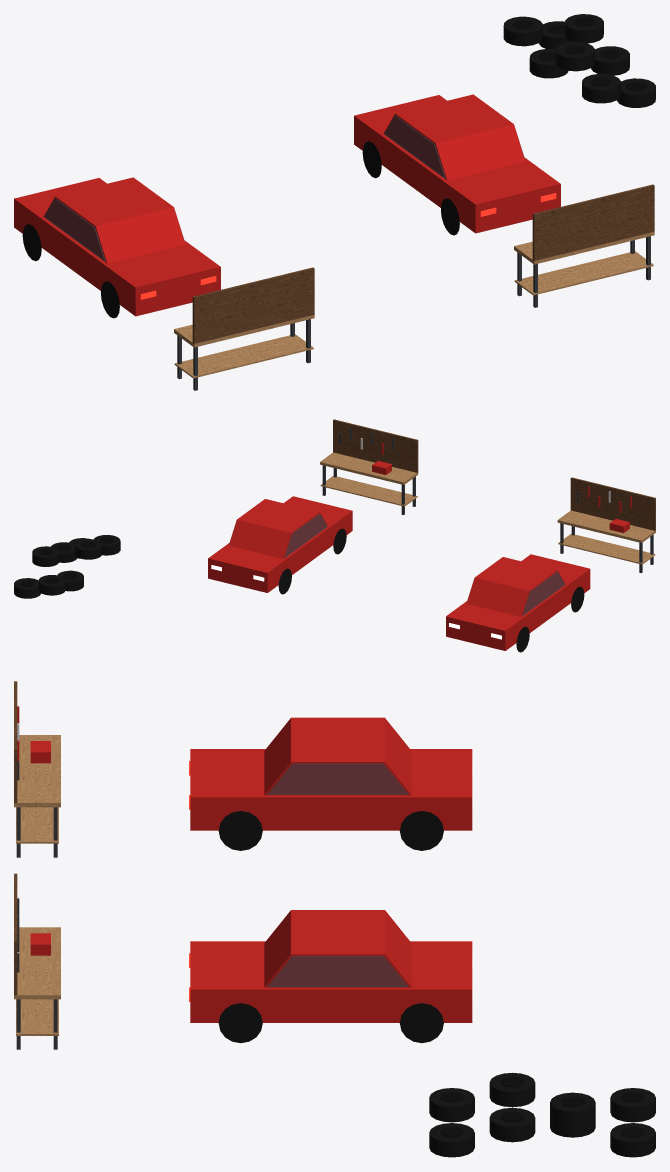
File: i_auto_repair.gltf
The picture shows the model from 3 angles, top to bottom: view 1: azimuth 30°, elevation 25°; view 2: azimuth 150°, elevation 25°; view 3: azimuth 270°, elevation 25°; orthographic projection. The views are drawn at different scales.
Parts seen in each view (by area): view 1: I_auto_repair; view 2: I_auto_repair; view 3: I_auto_repair.
Boxes of the visible parts, x1,y1,x2,y2 form: I_auto_repair: (14,14,655,390); I_auto_repair: (14,419,655,652); I_auto_repair: (14,681,655,1157).
Size of the model in its own units: 12.93 by 1.81 by 9.57.
10 materials, 2 textured.
